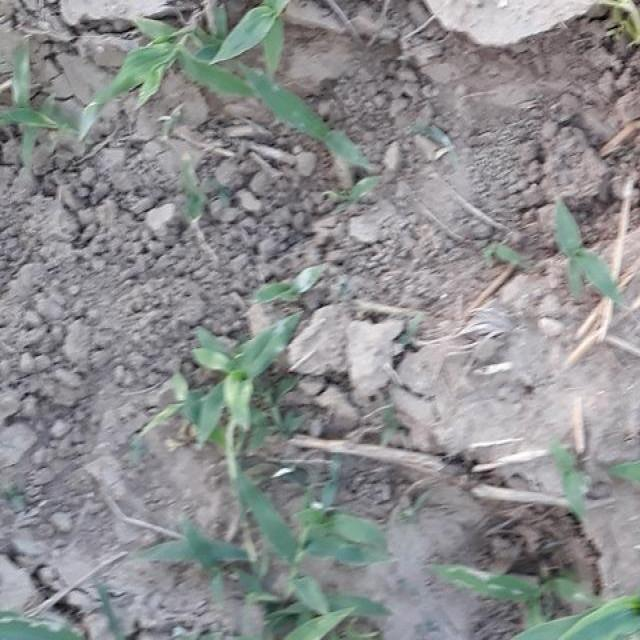weed: (159, 500, 407, 640), (93, 0, 346, 137), (435, 552, 640, 630), (176, 310, 284, 458)
